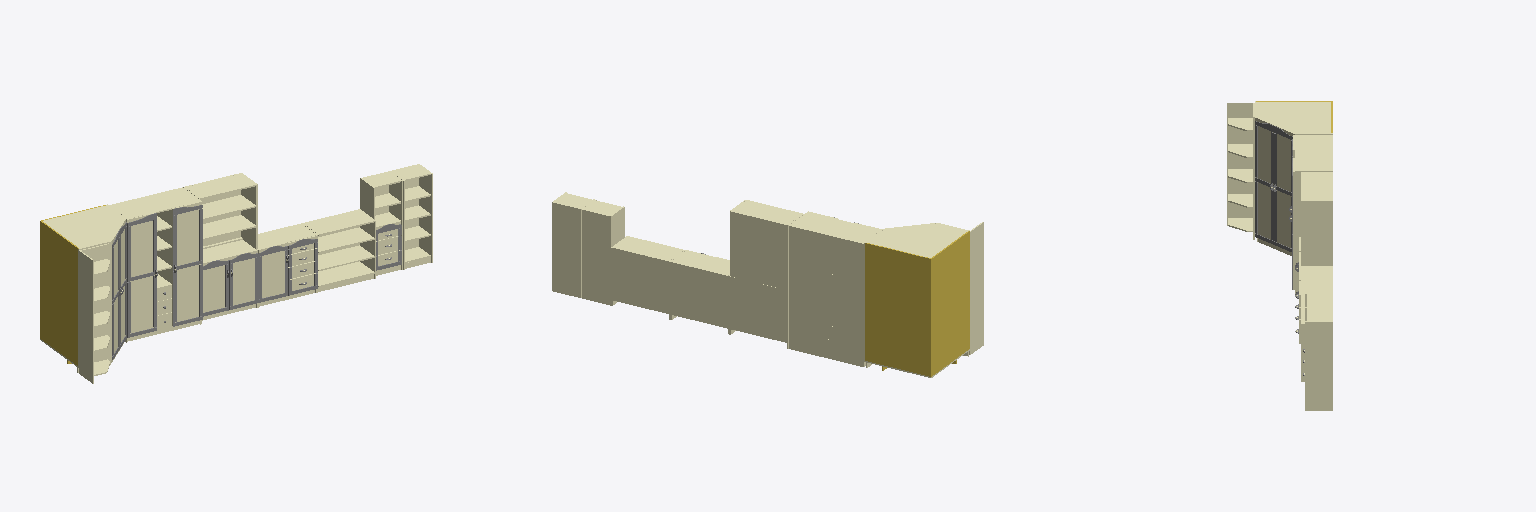
Rendered from 17982_Child_Furniture.obj.
3 views of the same model, side by side, from view 1: azimuth 30°, elevation 25°; view 2: azimuth 150°, elevation 25°; view 3: azimuth 270°, elevation 25° (orthographic).
Visible parts, largest first — view 1: Hatlap_02, Ajto_04, Ajto_03, Sarok_teto, Box63, _ajtos_fed, Alacsony27, Box03, Alacsony33, Alacsony29, Alacsony_6, Alacsony_l (+11 smaller); view 2: Hatlap_01, _ajtos_hat, Hatlap_02, Alacsony23, Alacsony_5, Alacsony_7, Alacsony28, Alacsony38, Sarok_teto, Alacsony16, Box63, _ajtos_fed (+3 smaller); view 3: Alacsony36, Alacsony_o, Sarok_teto, Box63, Ajto_06, Ajto_05, _ajtos_fed, Alacsony23, Alacsony_l, _ajtos_old.
Part boxes in pixels (x1,y1,x2,y2): Hatlap_02: (41,221,78,365); Ajto_04: (172,201,201,325); Ajto_03: (127,212,155,333); Sarok_teto: (43,205,124,247); Box63: (79,250,93,383); _ajtos_fed: (109,188,199,218); Alacsony27: (258,242,287,297); Box03: (81,243,108,361); Alacsony33: (229,250,257,305); Alacsony29: (203,257,228,312); Alacsony_6: (303,209,374,235); Alacsony_l: (185,174,256,199); Hatlap_01: (865,243,931,376); _ajtos_hat: (790,227,862,366); Hatlap_02: (932,231,969,375); Alacsony23: (672,251,729,328); Alacsony_5: (731,211,786,289); Alacsony_7: (612,248,668,313); Alacsony28: (731,277,786,342); Alacsony38: (553,202,580,297); Sarok_teto: (866,223,967,257); Alacsony16: (583,210,609,304); Box63: (969,222,983,354); _ajtos_fed: (790,212,880,244); Alacsony36: (1305,321,1332,410); Alacsony_o: (1301,200,1332,265); Sarok_teto: (1256,102,1330,134); Box63: (1227,103,1252,225); Ajto_06: (1275,125,1294,247); Ajto_05: (1255,117,1274,239); _ajtos_fed: (1295,136,1332,171); Alacsony23: (1301,267,1332,293); Alacsony_l: (1301,173,1330,199); _ajtos_old: (1295,172,1300,293).
Size of the model in its own units: 228 by 71.65 by 54.73.